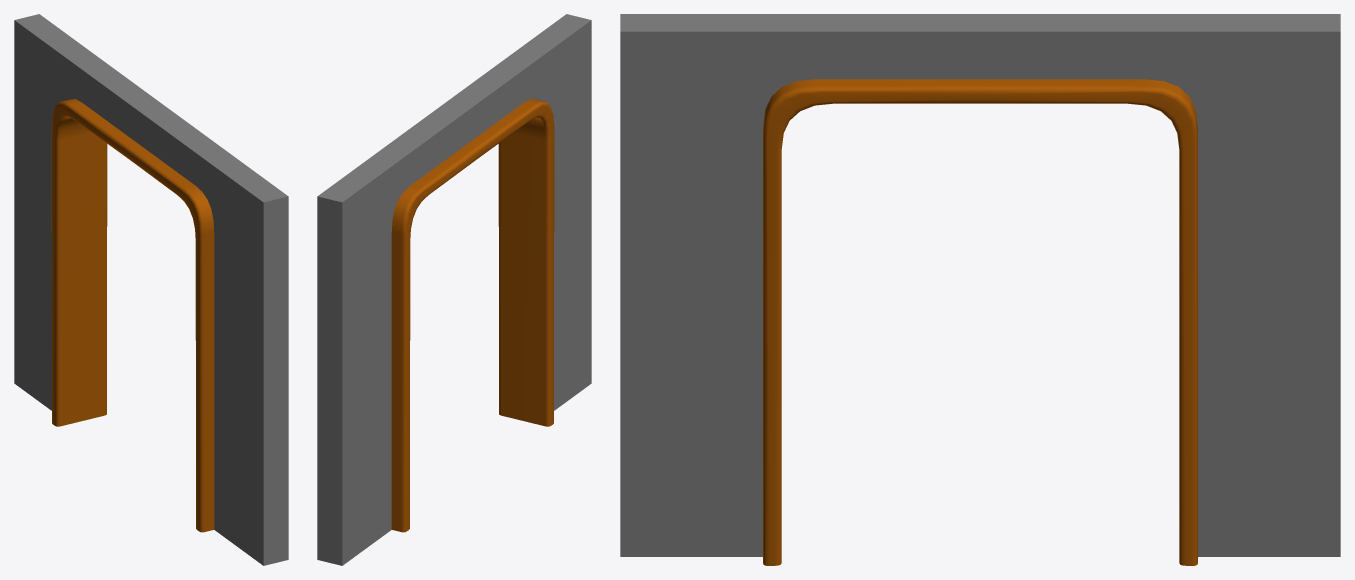
File: Arch.fbx
The picture shows the model from 3 angles, left to right: view 1: azimuth 30°, elevation 25°; view 2: azimuth 150°, elevation 25°; view 3: azimuth 270°, elevation 25°; orthographic projection. The views are drawn at different scales.
Parts seen in each view (by area): view 1: Arch; view 2: Arch; view 3: Arch.
Boxes of the visible parts, left/top/right/bottom form: Arch: left=14, top=14, right=288, bottom=565; Arch: left=317, top=14, right=591, bottom=565; Arch: left=620, top=14, right=1340, bottom=565.
Size of the model in its own units: 19.5 by 132 by 164.
